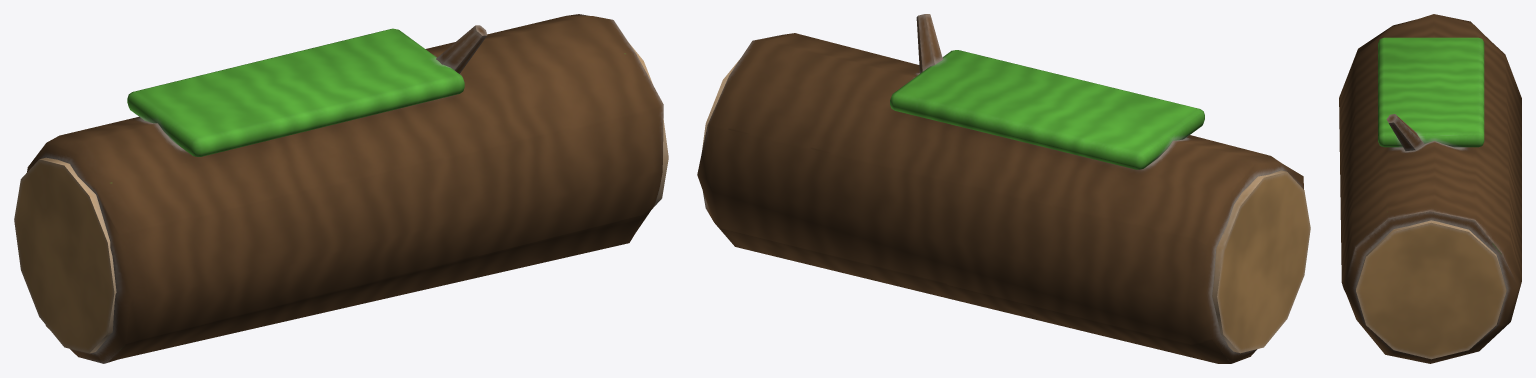
Rendered from tf_obstacle_log.glb.
3 renders of one model, left to right at view 1: azimuth 30°, elevation 25°; view 2: azimuth 150°, elevation 25°; view 3: azimuth 270°, elevation 25°, orthographic. The views are drawn at different scales.
Visible parts, largest first — view 1: tf_obstacle_log; view 2: tf_obstacle_log; view 3: tf_obstacle_log.
Boxes of the visible parts, box(x1,y1,x2,y2) form: tf_obstacle_log: box(14, 14, 668, 363); tf_obstacle_log: box(697, 14, 1310, 363); tf_obstacle_log: box(1339, 14, 1521, 363).
Size of the model in its own units: 2.44 by 1.1 by 0.9285.
Materials: 3 (3 with a texture image).
